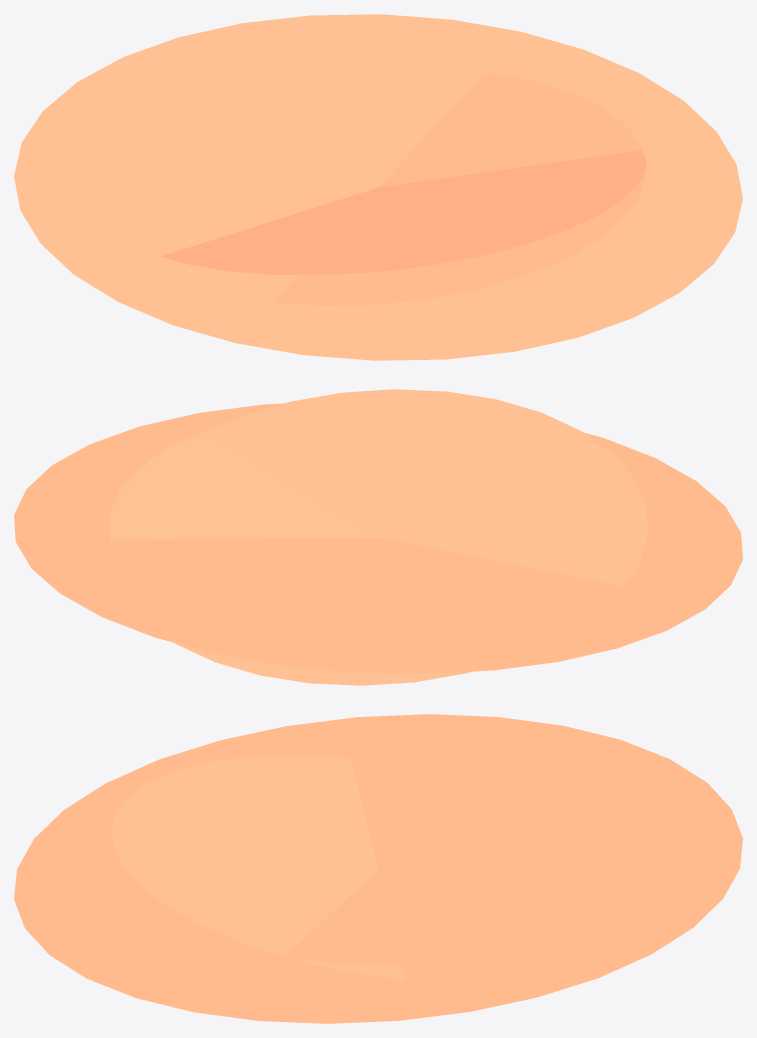
The model's file is Rings FOR MAIN V2.glb.
The picture shows the model from 3 angles, top to bottom: view 1: azimuth 30°, elevation 25°; view 2: azimuth 150°, elevation 25°; view 3: azimuth 270°, elevation 25°; orthographic projection.
Visible parts, largest first — view 1: Rings.008, Rings.007, Rings.006; view 2: Rings.008, Rings.007, Rings.006; view 3: Rings.008, Rings.007, Rings.006.
Boxes of the visible parts, <box> form: Rings.008: <box>14,14,742,360</box>; Rings.007: <box>161,150,646,275</box>; Rings.006: <box>272,72,646,305</box>; Rings.008: <box>14,403,742,673</box>; Rings.007: <box>175,389,647,685</box>; Rings.006: <box>109,431,377,540</box>; Rings.008: <box>14,714,742,1023</box>; Rings.007: <box>111,755,405,979</box>; Rings.006: <box>108,845,539,965</box>.
Bounding box in the file's own units: 9.85 × 1.1 × 9.83.
Materials: 1 (1 with a texture image).
